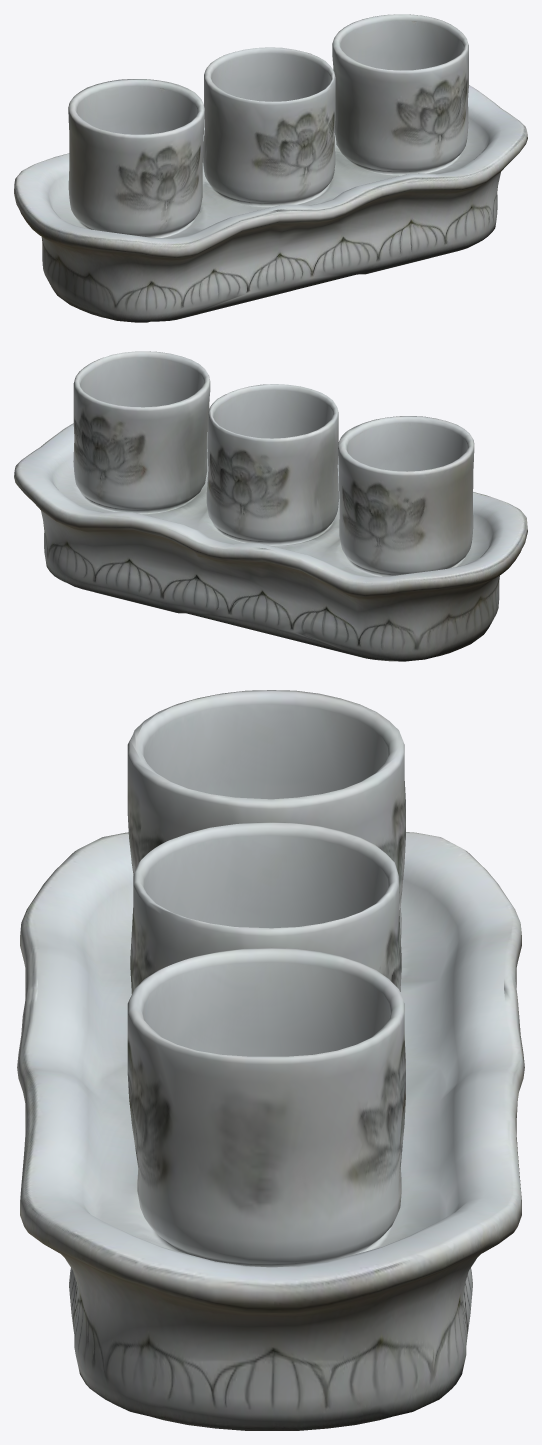
File: chennuoc.glb
3 views of the same model, one above another, from view 1: azimuth 30°, elevation 25°; view 2: azimuth 150°, elevation 25°; view 3: azimuth 270°, elevation 25° (orthographic). The views are drawn at different scales.
Visible parts, largest first — view 1: part_0000; view 2: part_0000; view 3: part_0000.
Boxes of the visible parts, box(x1,y1,x2,y2) form: part_0000: box(14, 14, 527, 322); part_0000: box(14, 351, 527, 661); part_0000: box(17, 690, 524, 1430).
Bounding box in the file's own units: 1.19 × 0.4404 × 0.5629.
1 material, 1 textured.
